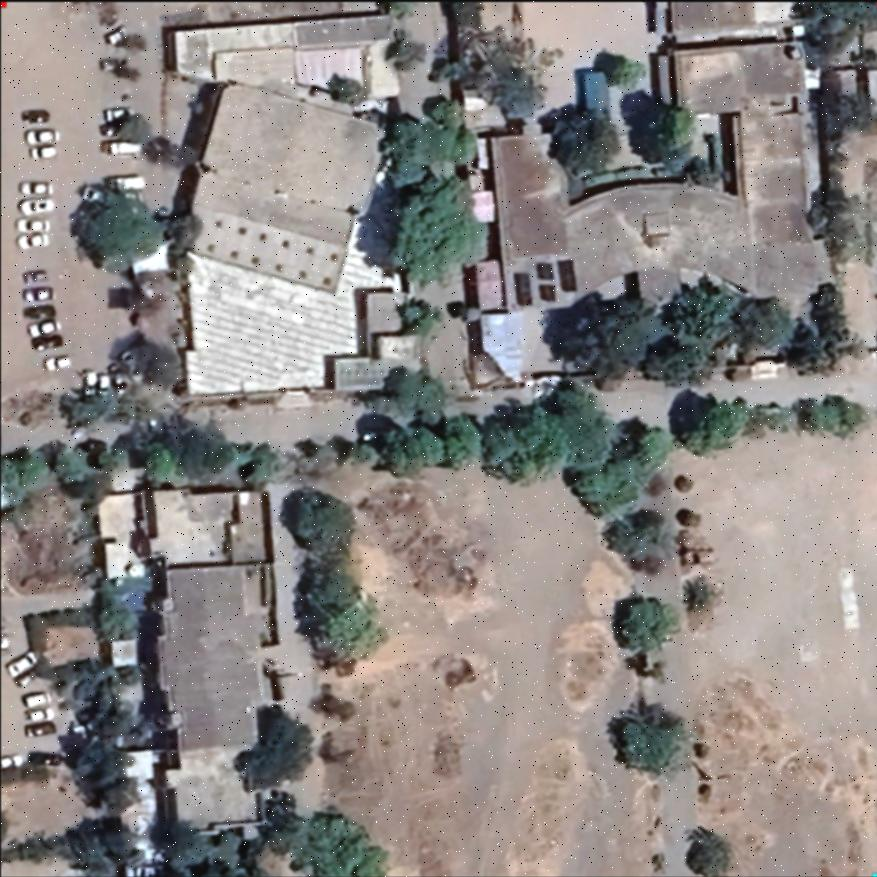Solarpanel: (532, 256, 558, 308), (554, 252, 581, 298), (509, 267, 533, 309)
